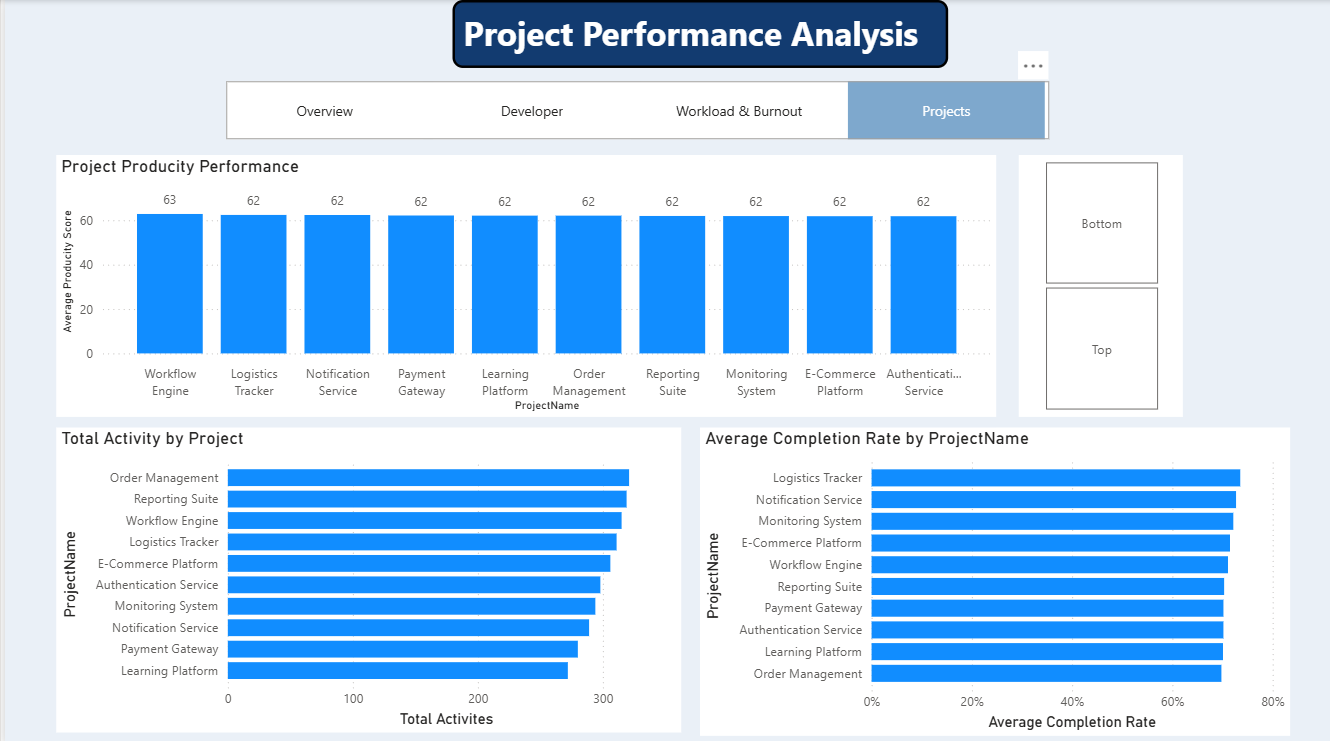

This screenshot's page, from the dashboard's own definition file:
{"tool":"powerbi","page":{"name":"Projects","canvas":[1280,720],"ordinal":3},"visuals":[{"type":"clusteredBarChart","title":"Total Activity by Project","fields":{"Category":["DimProject.ProjectName"],"Y":["Calculation.Total Activites"]},"box":[49.1,412.6,603.1,294.3],"z":0},{"type":"clusteredColumnChart","title":"Project Producity Performance","fields":{"Category":["DimProject.ProjectName"],"Y":["Calculation.Average Producity Score"]},"box":[49.1,150,907.5,252.5],"z":1000},{"type":"clusteredBarChart","fields":{"Category":["DimProject.ProjectName"],"Y":["Calculation.Average Completion Rate"]},"box":[670.9,412.6,569.9,297.2],"z":2000},{"type":"textbox","box":[431.4,0,478.6,65.7],"z":3000},{"type":"slicer","fields":{"Values":["Ranking Selection.Ranking"]},"box":[978.2,150,158.7,252.5],"z":3001},{"type":"pageNavigator","box":[213.5,77.9,793.5,56.3],"z":3002}]}

Visuals, with their boxes in screenshot pixels (x1, y1, x2, y2), scaled from the page's 1280x720 canvas onto the 1330x741 screenshot:
"Total Activity by Project" clusteredBarChart: box(51, 425, 678, 728)
"Project Producity Performance" clusteredColumnChart: box(51, 154, 994, 414)
clusteredBarChart - DimProject.ProjectName x Calculation.Average Completion Rate: box(697, 425, 1289, 731)
textbox: box(448, 0, 946, 68)
slicer - Ranking Selection.Ranking: box(1016, 154, 1181, 414)
pageNavigator: box(222, 80, 1046, 138)
